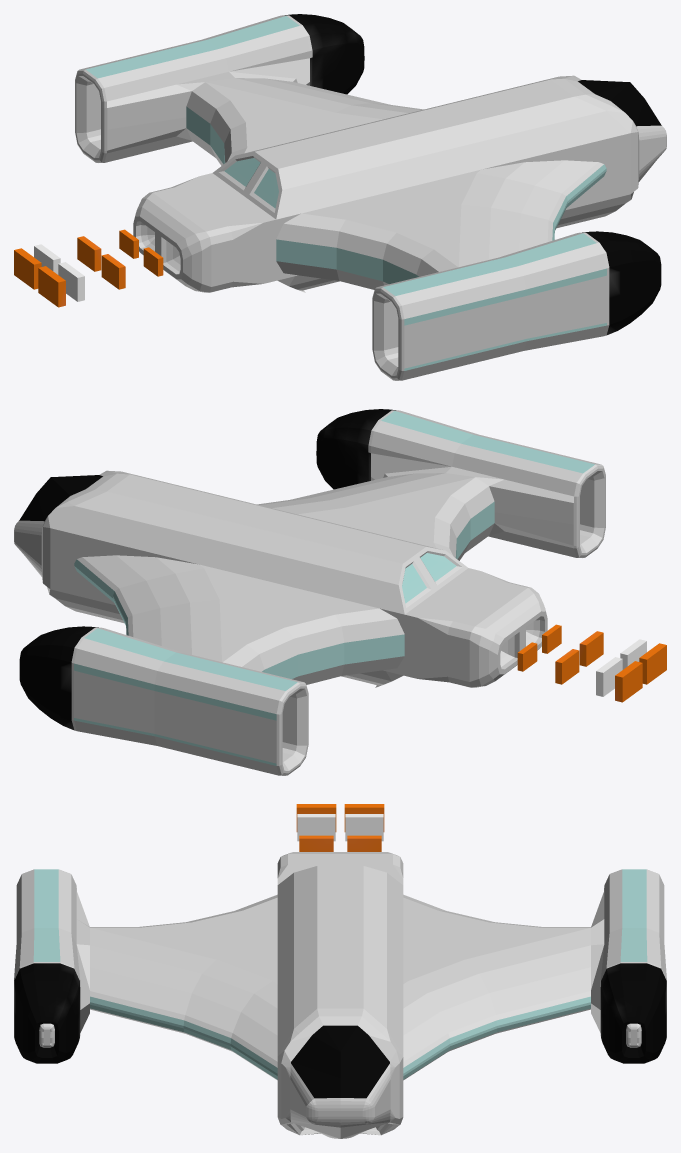
File: Starship 2a.fbx
3 views of the same model, one above another, from view 1: azimuth 30°, elevation 25°; view 2: azimuth 150°, elevation 25°; view 3: azimuth 270°, elevation 25° (orthographic).
Visible parts, largest first — view 1: Cube, Engine 3, Engine 5, Engine 4, Engine 6; view 2: Cube, Engine 3, Engine 5, Engine 4, Engine 6; view 3: Cube, Engine 4, Engine 5, Engine 3.
Boxes of the visible parts, x1,y1,x2,y2 form: Cube: (75,14,666,380); Engine 3: (14,248,65,307); Engine 5: (77,236,125,289); Engine 4: (34,244,84,301); Engine 6: (119,229,163,276); Cube: (14,409,605,775); Engine 3: (615,643,666,702); Engine 5: (555,631,603,684); Engine 4: (596,639,646,696); Engine 6: (517,624,561,671); Cube: (14,852,666,1138); Engine 4: (297,814,383,841); Engine 5: (299,835,381,851); Engine 3: (296,804,384,831).
Bounding box in the file's own units: 1055 × 200 × 979.
